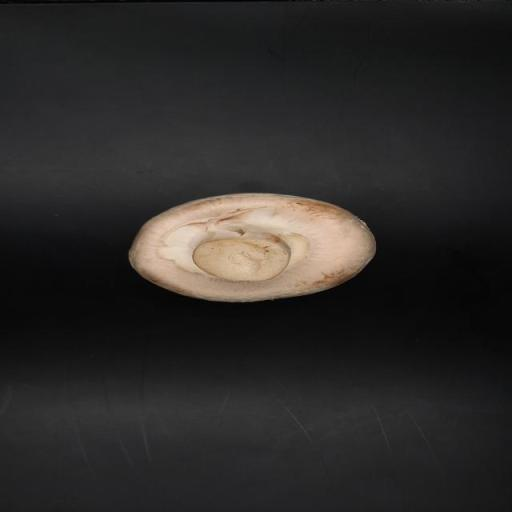mushroom: (128, 192, 377, 304)
